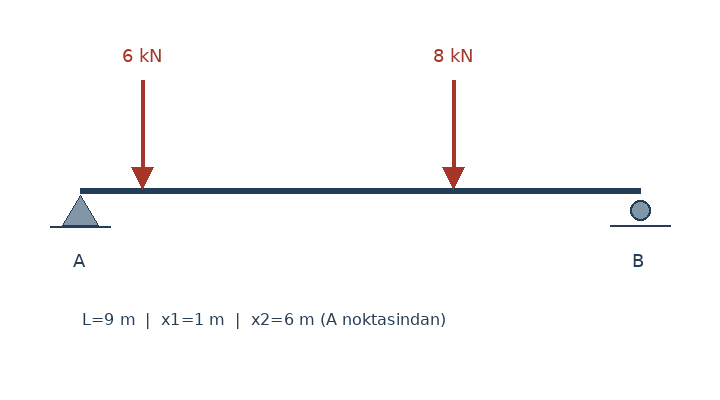pin_support: (61, 190, 99, 226)
point_load: (128, 76, 156, 190), (439, 76, 467, 190)
roller_support: (625, 196, 655, 227)
